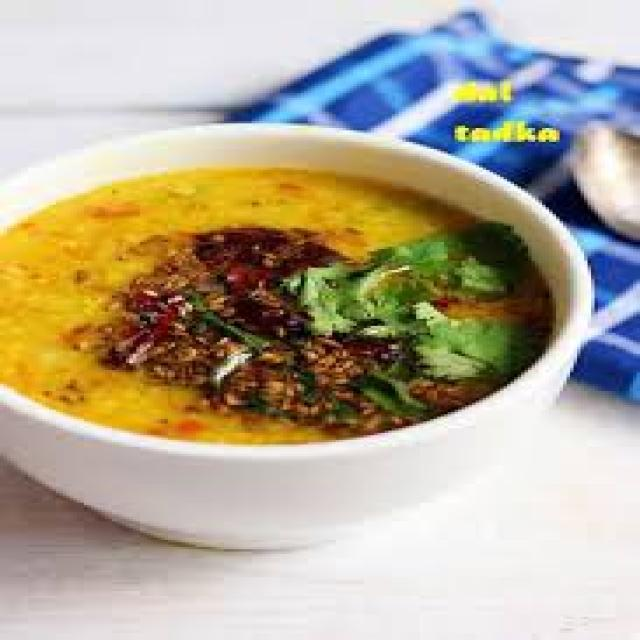dal: (25, 185, 518, 437)
